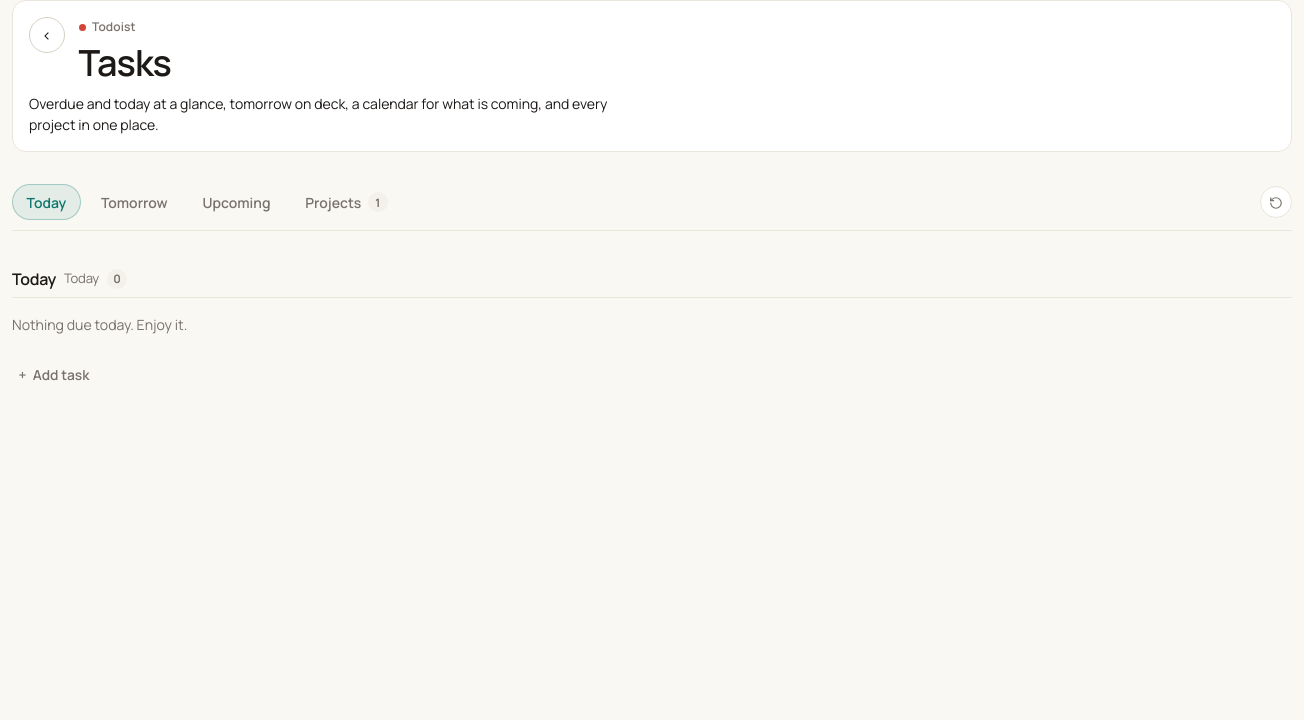
Scenario: renaming a project › cancelling leaves the name alone
The width and height of the screenshot is (1304, 720).
Click the button "Projects 1" at coordinates (346, 202), box x1=291 y1=184 x2=402 y2=220
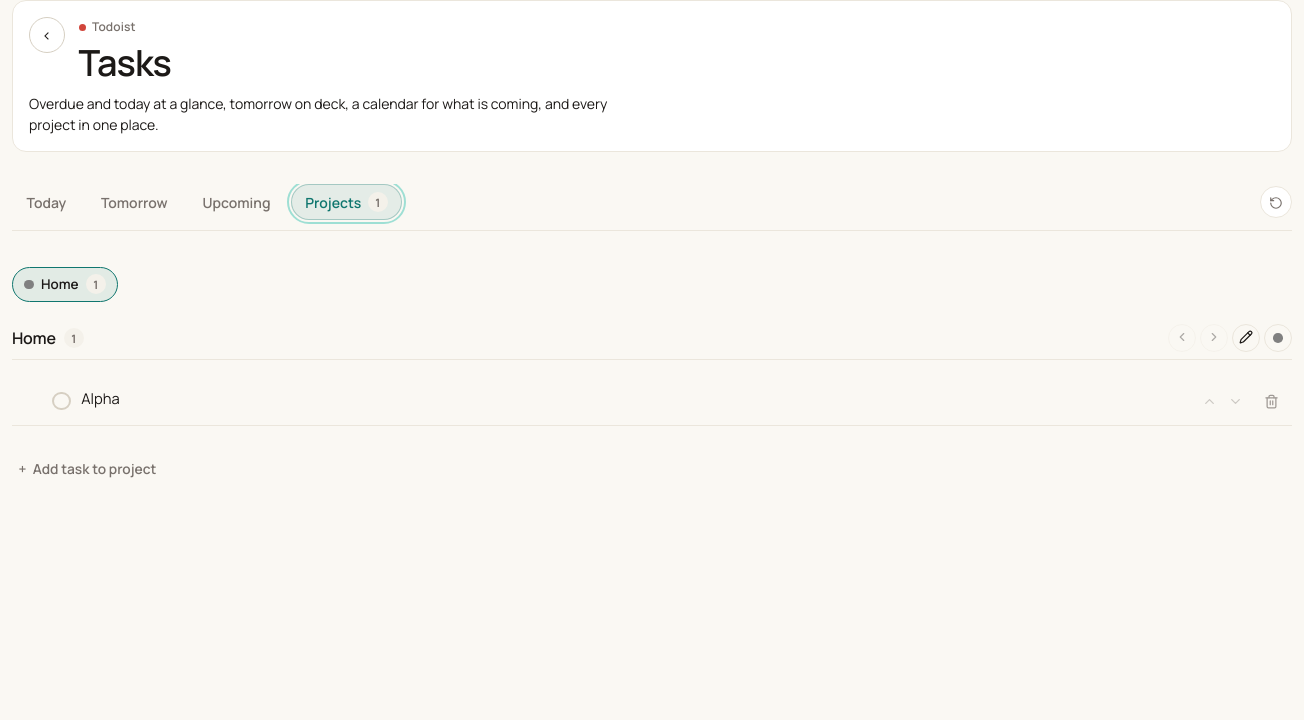
Now the text "Alpha" is shown, box x1=81 y1=388 x2=120 y2=408
Click the button named "Rename Home" at coordinates (1246, 338), box x1=1232 y1=324 x2=1260 y2=352
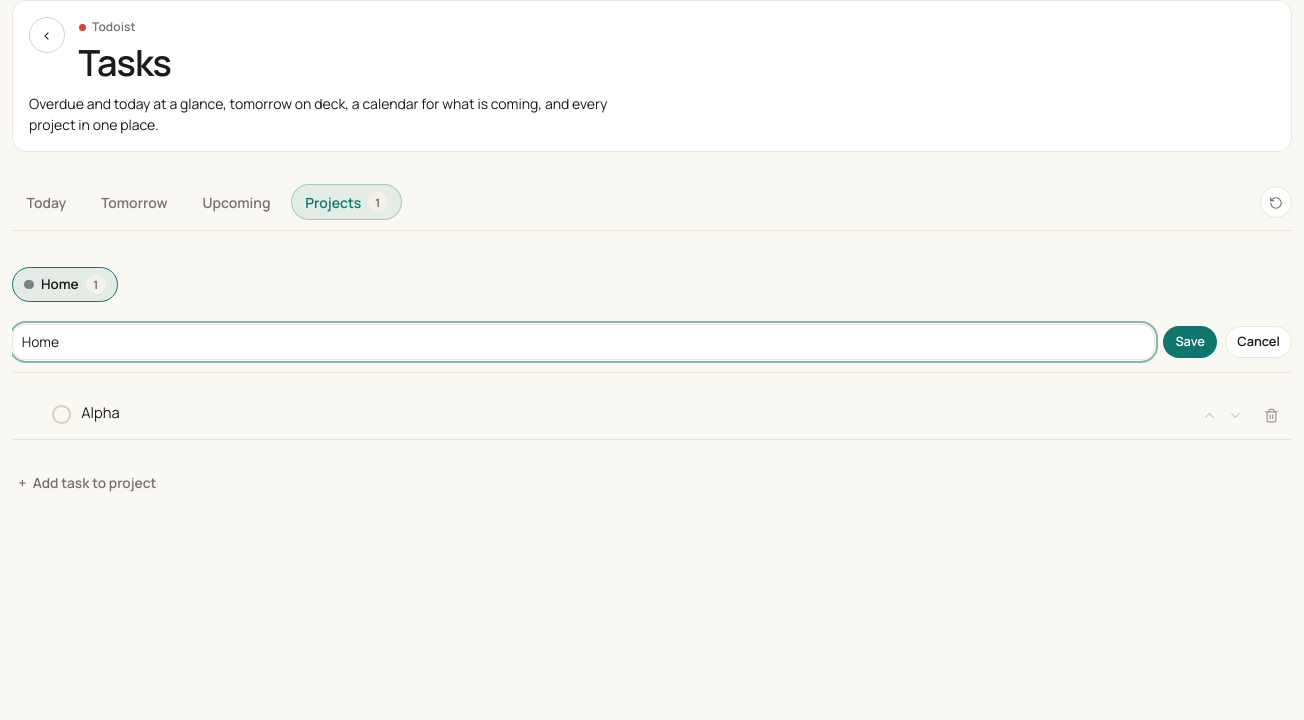
Click the button "Cancel" at coordinates (1259, 342), box x1=1225 y1=326 x2=1292 y2=358
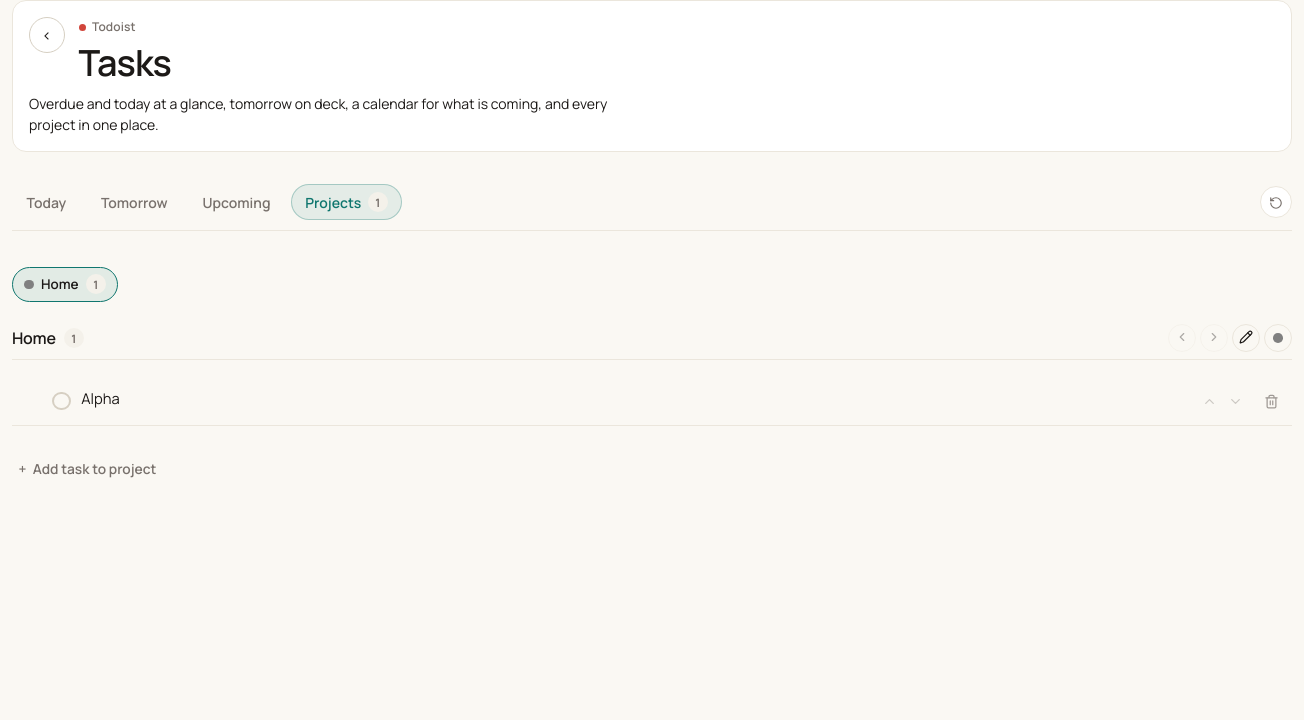
Now the heading "Home 1" is shown, box x1=12 y1=326 x2=84 y2=350
